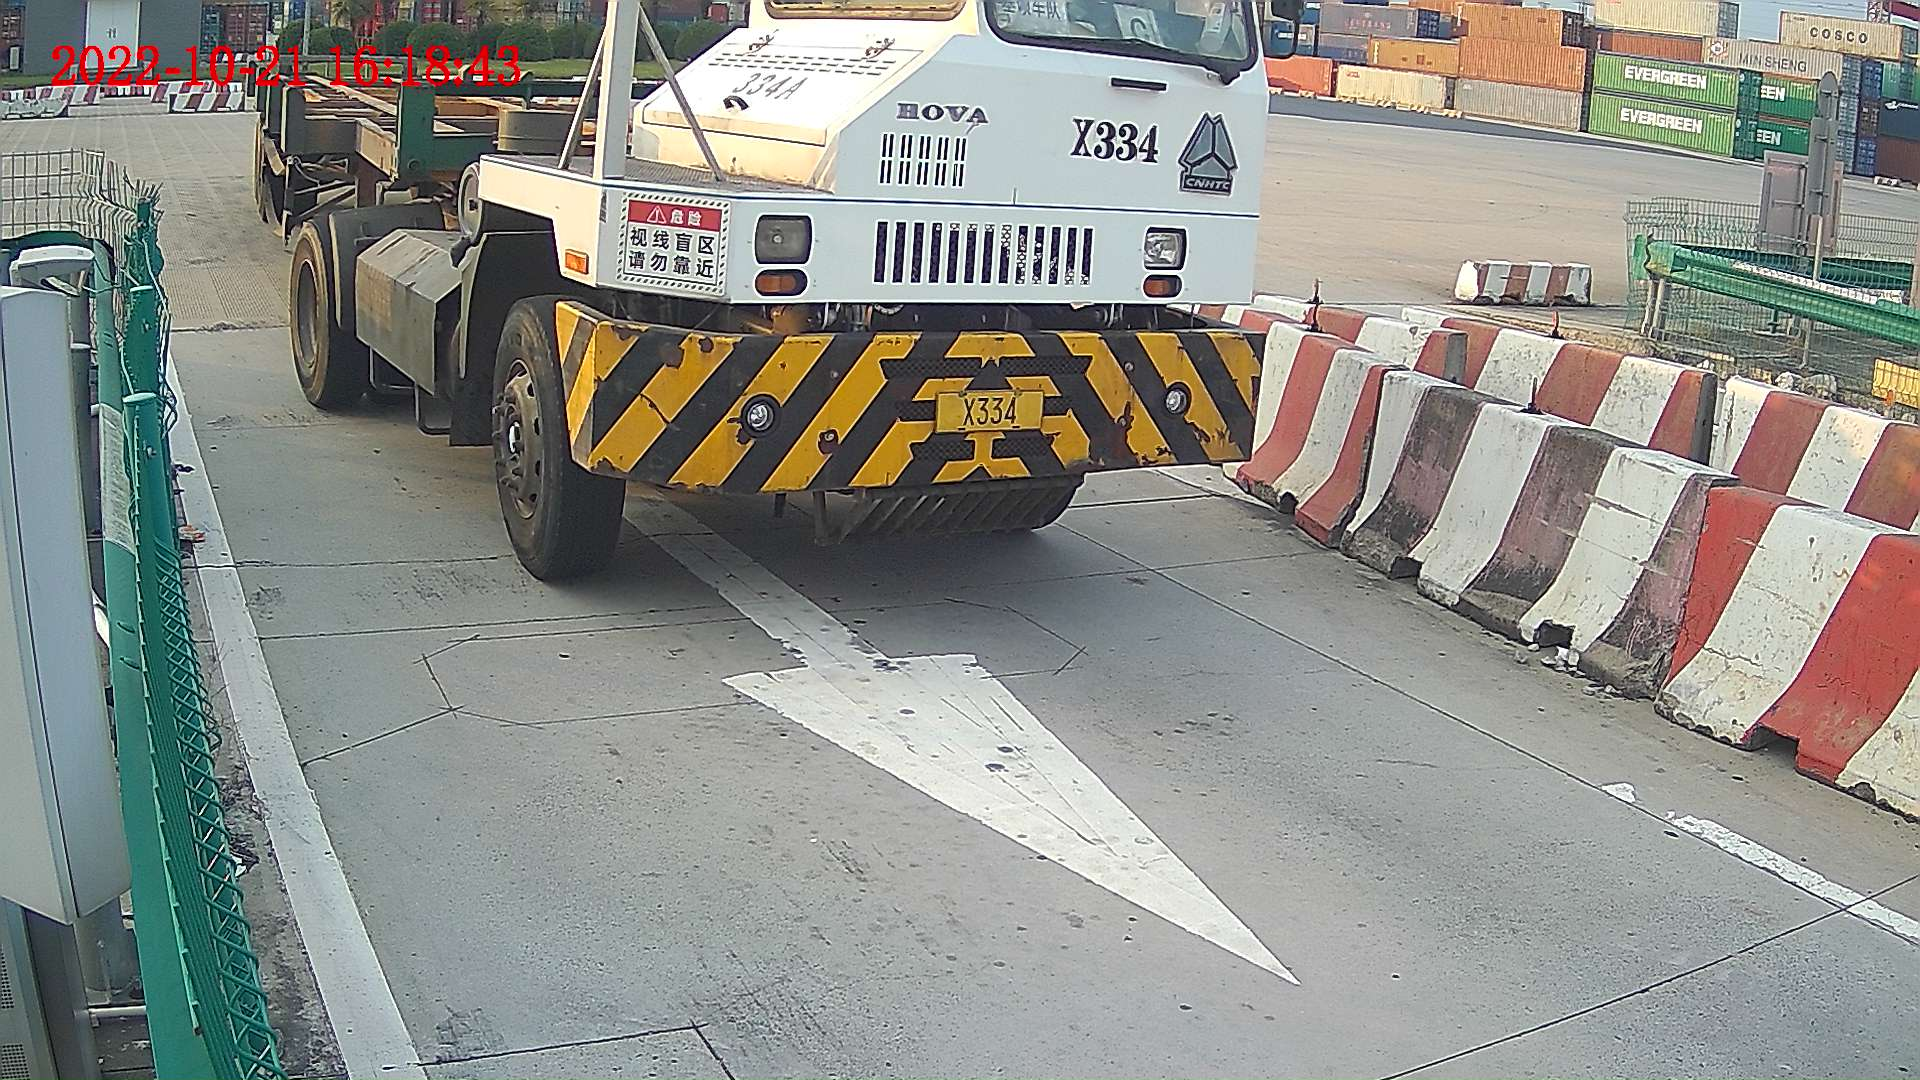head: (509, 1, 1263, 588)
plate: (934, 392, 1047, 432)
